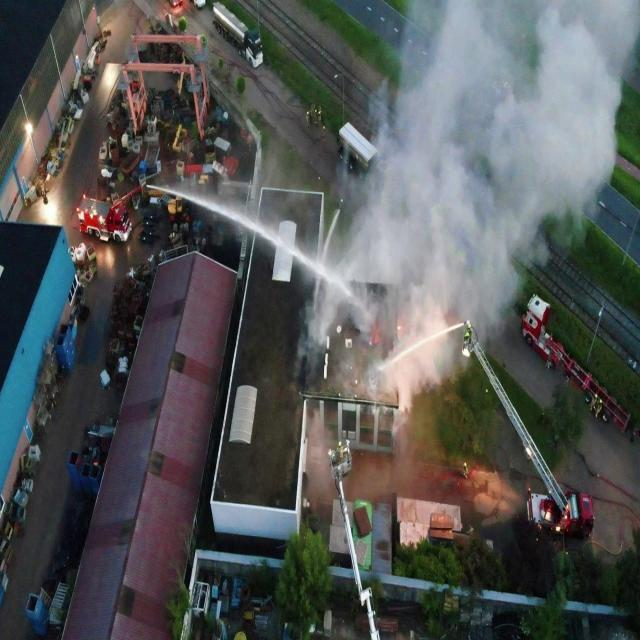Fire: (398, 326, 400, 331)
Smoke: (294, 0, 640, 436), (302, 408, 332, 507)
